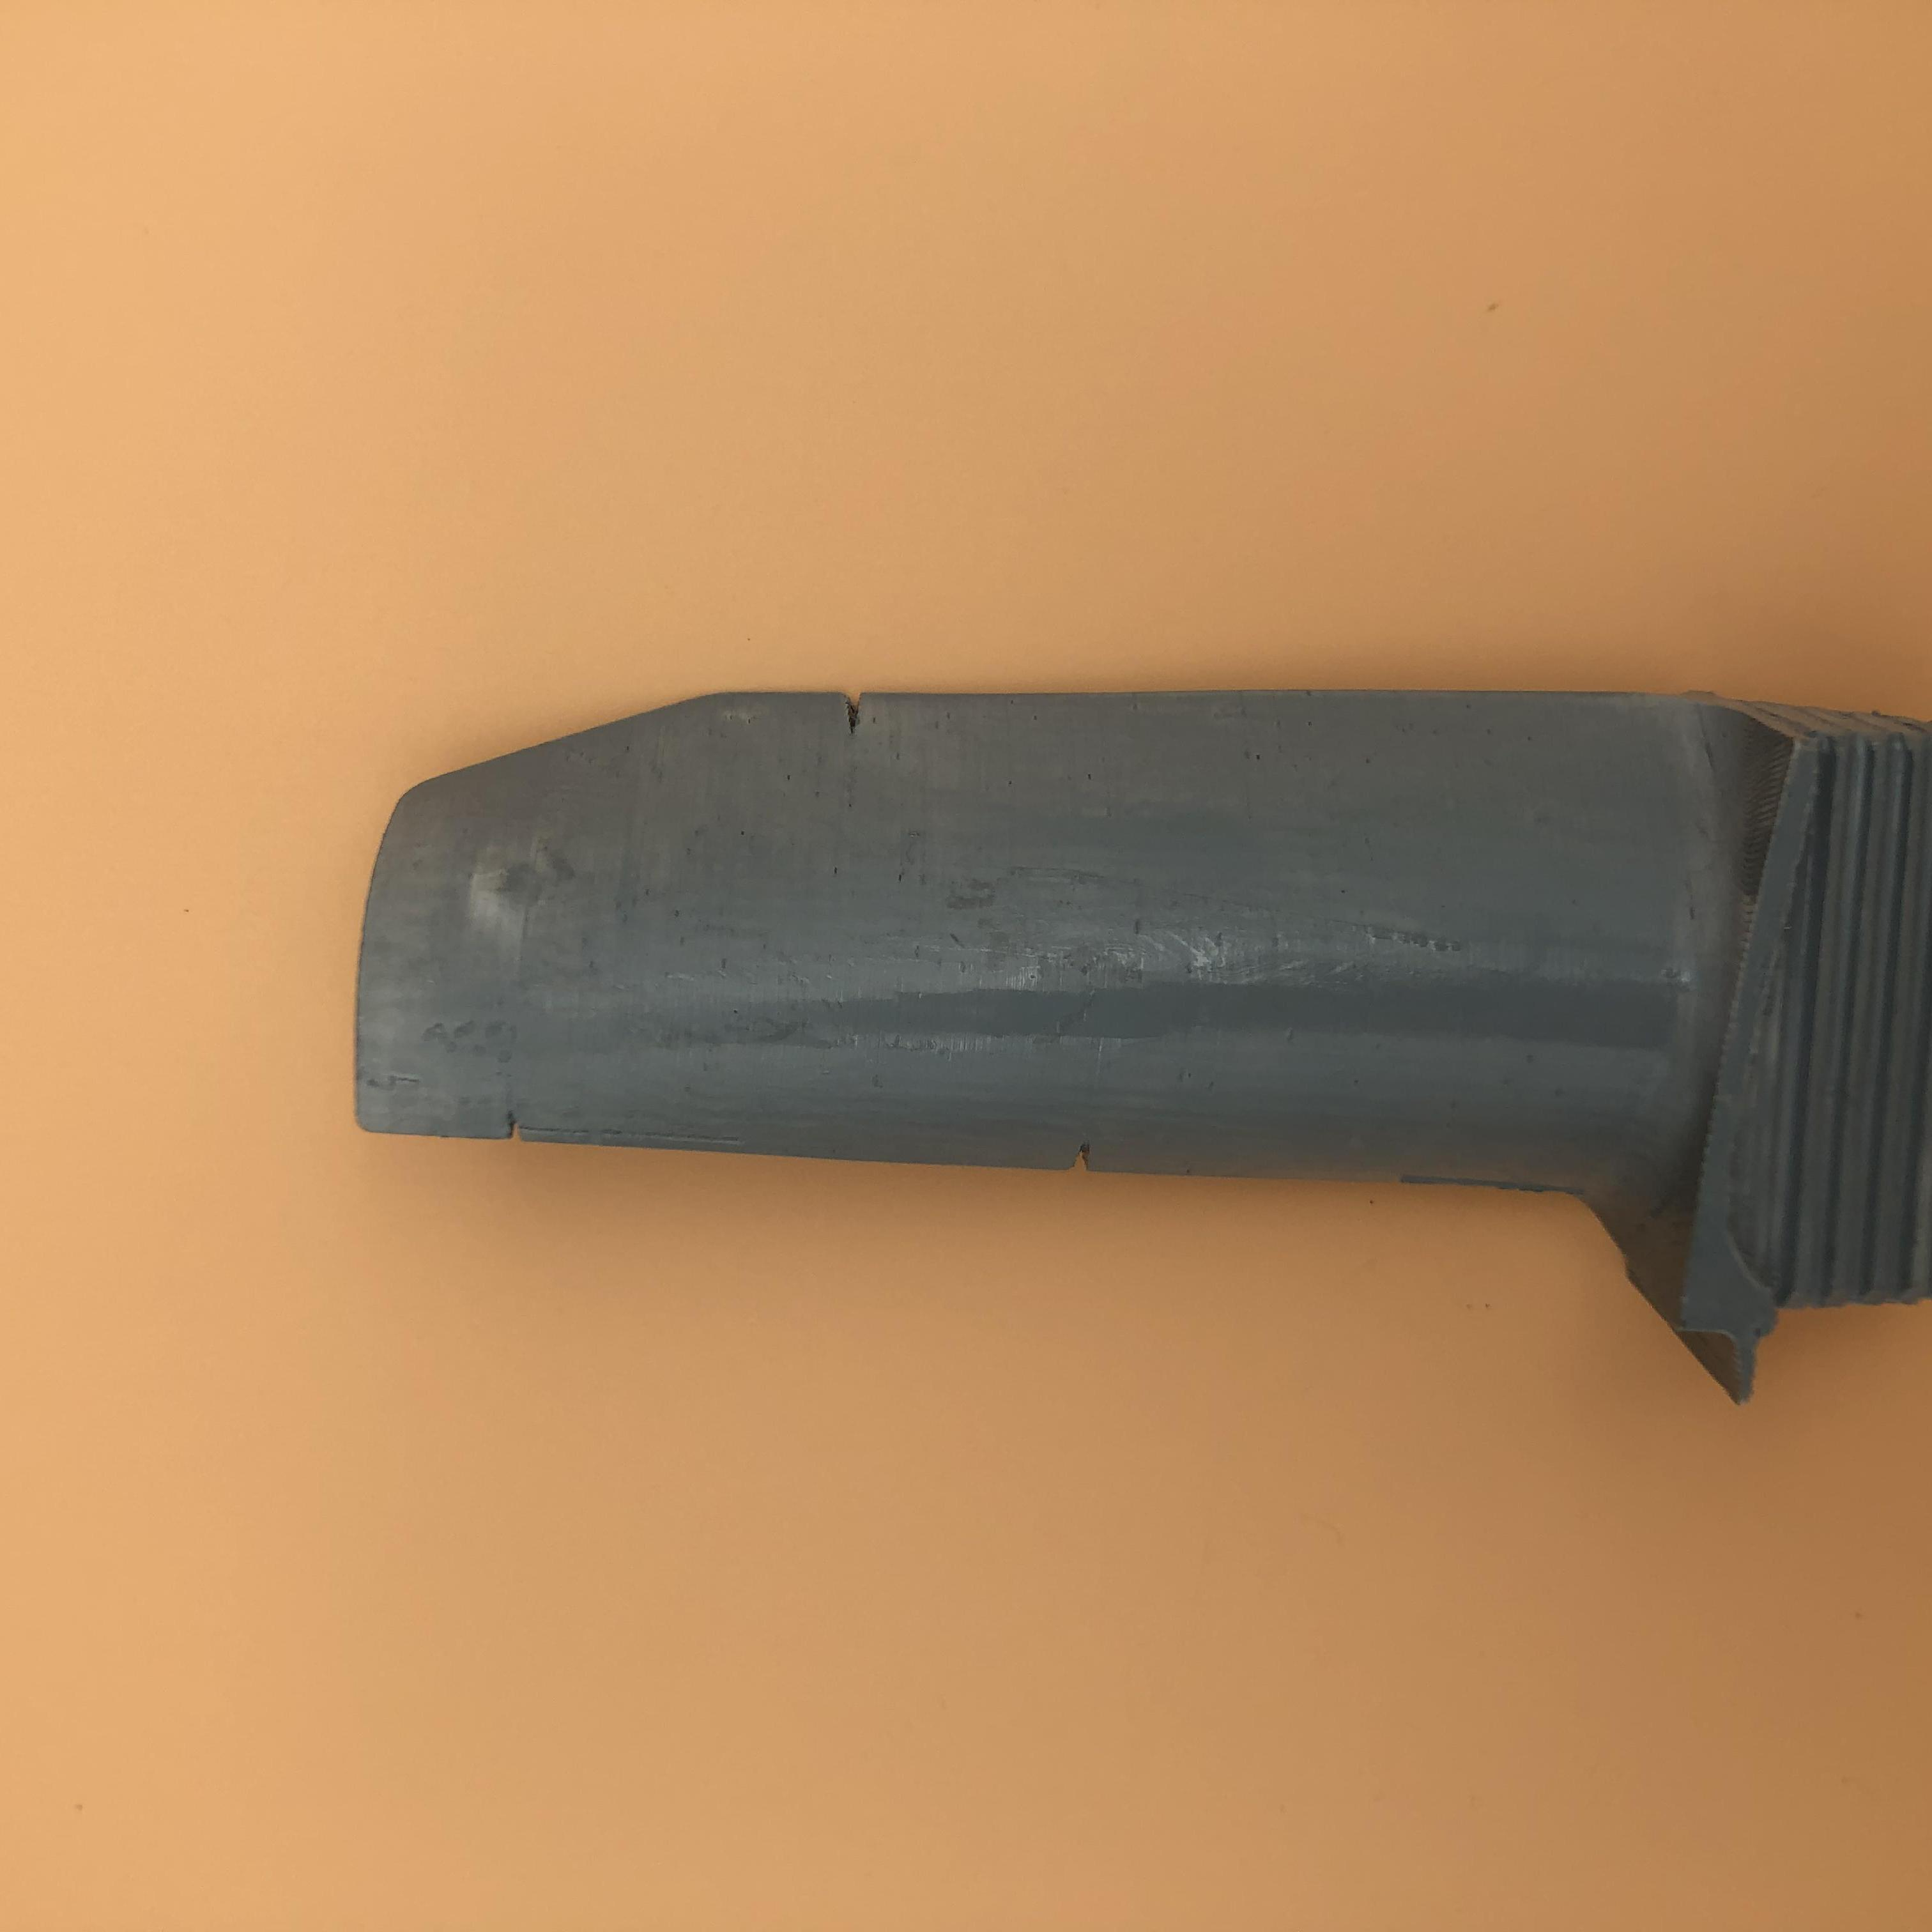groove: (832, 695, 881, 741), (483, 1115, 557, 1141), (1060, 1134, 1100, 1171)
